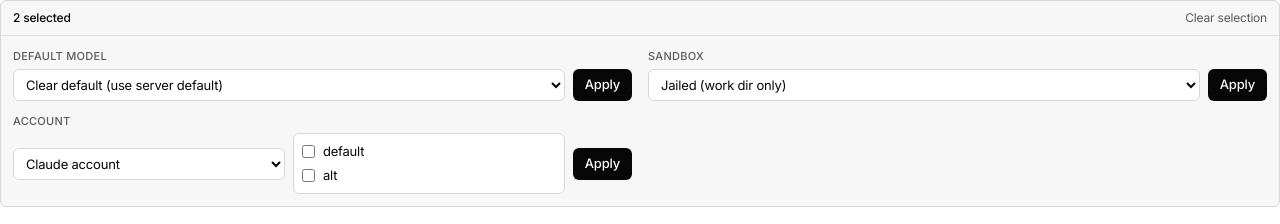
Scenario: AdminUsersBatchToolbar › narrows the account picker to the selected CLI type
This screenshot has width=1280, height=224.
Select "Codex account" in the dropdown named "Provider type" at (149, 164), box left=13, top=148, right=285, bottom=180
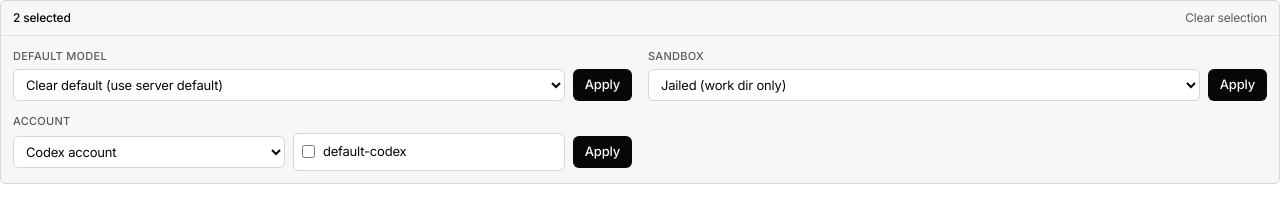
Check: the text "default-codex" is shown, box left=323, top=142, right=406, bottom=162
Check: the text "alt" is gone
